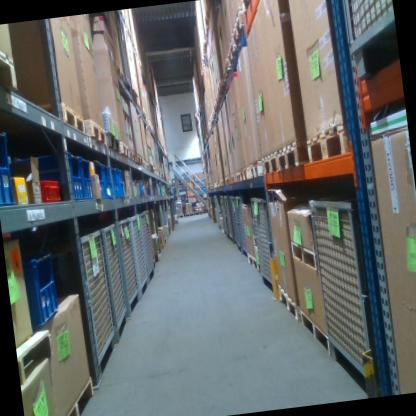pallet: (15, 321, 56, 392), (37, 95, 86, 140), (304, 121, 352, 164), (53, 373, 96, 416), (299, 306, 330, 360), (0, 32, 20, 96), (275, 140, 308, 176), (290, 234, 318, 275), (276, 283, 299, 325), (228, 7, 249, 48), (82, 116, 107, 148), (260, 150, 280, 181), (248, 157, 264, 182), (246, 252, 260, 273), (106, 131, 119, 153), (225, 45, 235, 72), (117, 140, 130, 160), (238, 167, 250, 187), (115, 60, 125, 83), (128, 147, 138, 164), (213, 96, 222, 112), (217, 81, 224, 101), (229, 172, 238, 186), (136, 153, 144, 168), (223, 65, 229, 81), (235, 170, 241, 184), (218, 178, 226, 187), (184, 211, 194, 216), (194, 210, 204, 215), (145, 161, 150, 170), (151, 123, 155, 134), (211, 108, 215, 119), (225, 178, 231, 185), (209, 115, 213, 125), (177, 214, 184, 217), (217, 95, 218, 98)
small_load_carrier: (9, 148, 85, 211), (21, 245, 62, 333), (0, 126, 18, 209), (79, 154, 96, 203), (91, 160, 108, 200), (102, 162, 114, 202), (109, 165, 121, 200), (116, 166, 126, 197)
stillage: (309, 194, 376, 383), (49, 223, 122, 385), (344, 0, 401, 87), (247, 193, 284, 296), (101, 218, 131, 341), (113, 215, 143, 321), (129, 213, 150, 296), (114, 14, 132, 90), (139, 210, 156, 285), (227, 191, 246, 255), (236, 194, 254, 260), (223, 190, 238, 243), (147, 208, 159, 271), (155, 201, 168, 246), (218, 191, 229, 240), (212, 192, 224, 229)
